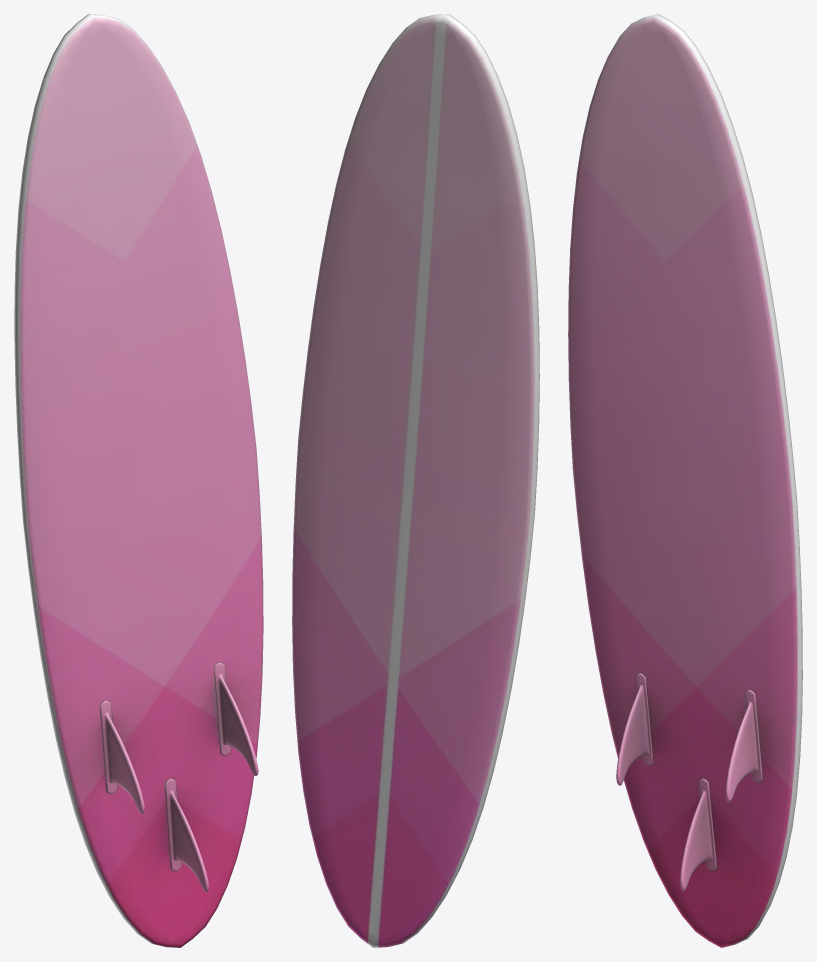
Rendered from surfboard_4.glb.
The picture shows the model from 3 angles, left to right: view 1: azimuth 30°, elevation 25°; view 2: azimuth 150°, elevation 25°; view 3: azimuth 330°, elevation 25°; orthographic projection. The views are drawn at different scales.
Parts seen in each view (by area): view 1: Surfboard_04_Surfboard_04_0; view 2: Surfboard_04_Surfboard_04_0; view 3: Surfboard_04_Surfboard_04_0.
Part boxes in pixels (box(x1,y1,x2,y2)): Surfboard_04_Surfboard_04_0: box(14, 14, 263, 947); Surfboard_04_Surfboard_04_0: box(292, 14, 539, 947); Surfboard_04_Surfboard_04_0: box(568, 14, 802, 947).
Bounding box in the file's own units: 0.5338 × 1.98 × 0.1881.
Materials: 1 (1 with a texture image).
